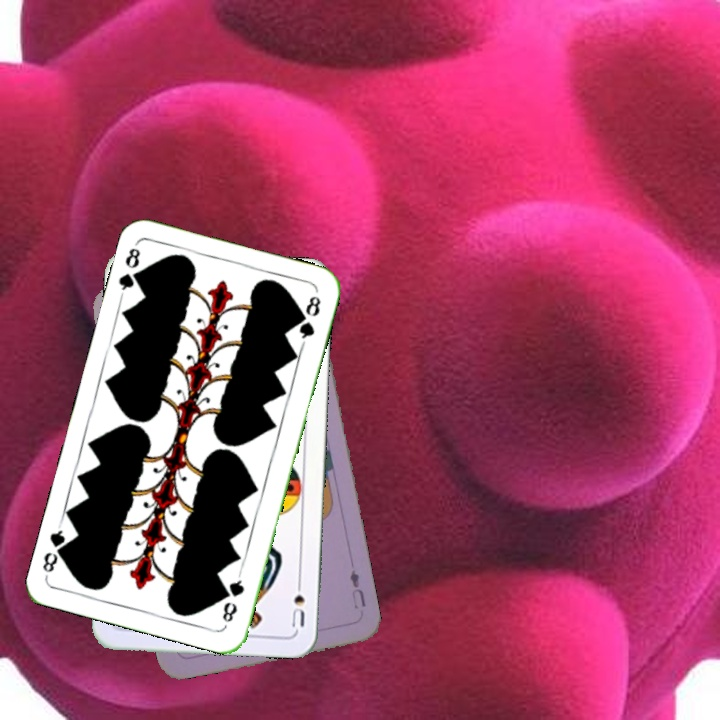EU: (345, 566, 368, 611)
G8: (114, 241, 146, 299), (218, 570, 248, 625)
SU: (286, 573, 307, 630)
